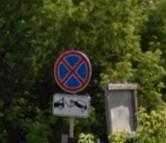No Parking: (56, 51, 92, 94)
